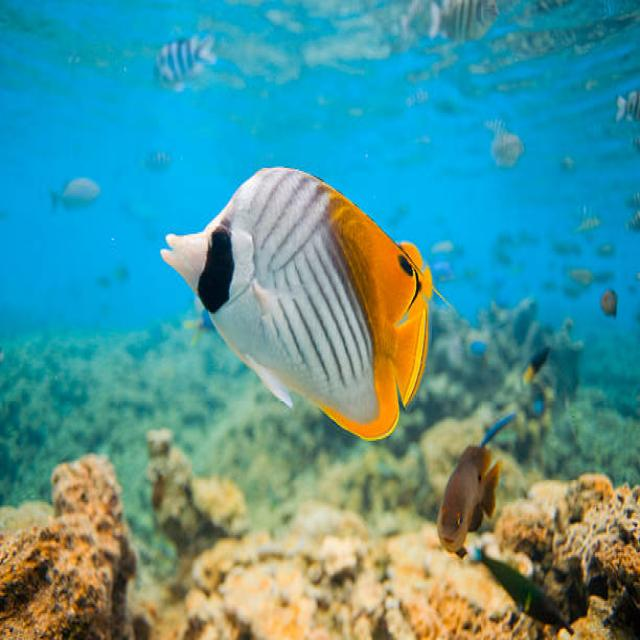ButterflyFish: (159, 166, 429, 448)
